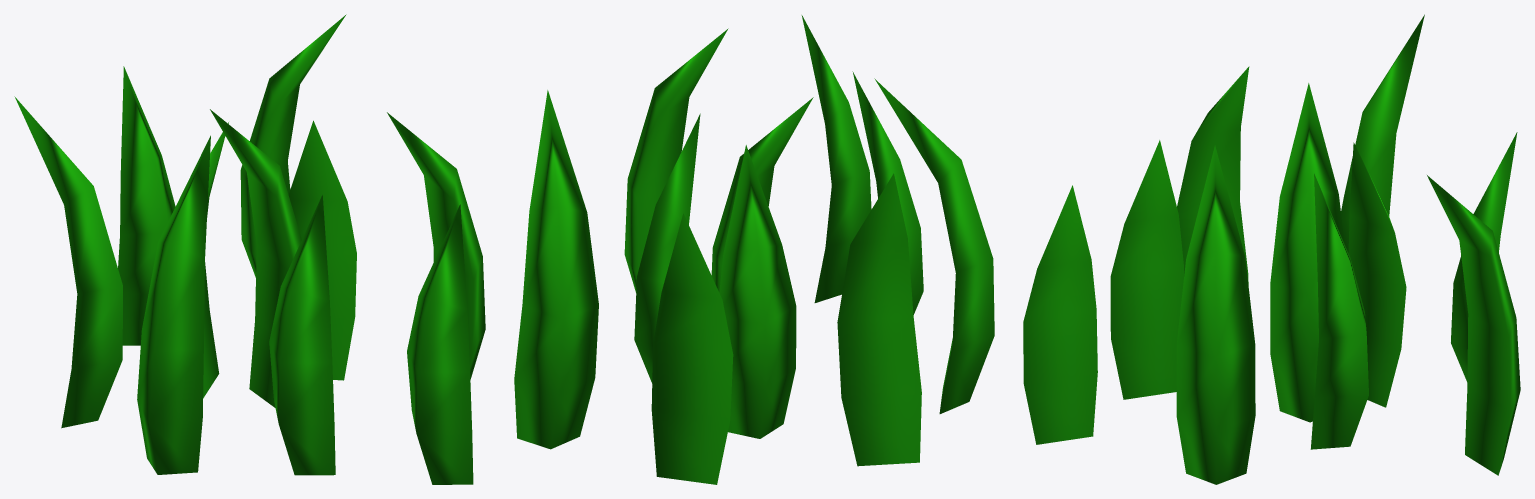
3 renders of one model, left to right at view 1: azimuth 30°, elevation 25°; view 2: azimuth 150°, elevation 25°; view 3: azimuth 270°, elevation 25°, orthographic. The views are drawn at different scales.
Parts seen in each view (by area): view 1: grass_v6_02; view 2: grass_v6_02; view 3: grass_v6_02.
Boxes of the visible parts, box(x1,y1,x2,y2) form: grass_v6_02: box(14, 14, 485, 484); grass_v6_02: box(514, 15, 994, 484); grass_v6_02: box(1023, 14, 1520, 484).
Bounding box in the file's own units: 0.4866 × 0.3924 × 0.5806.
